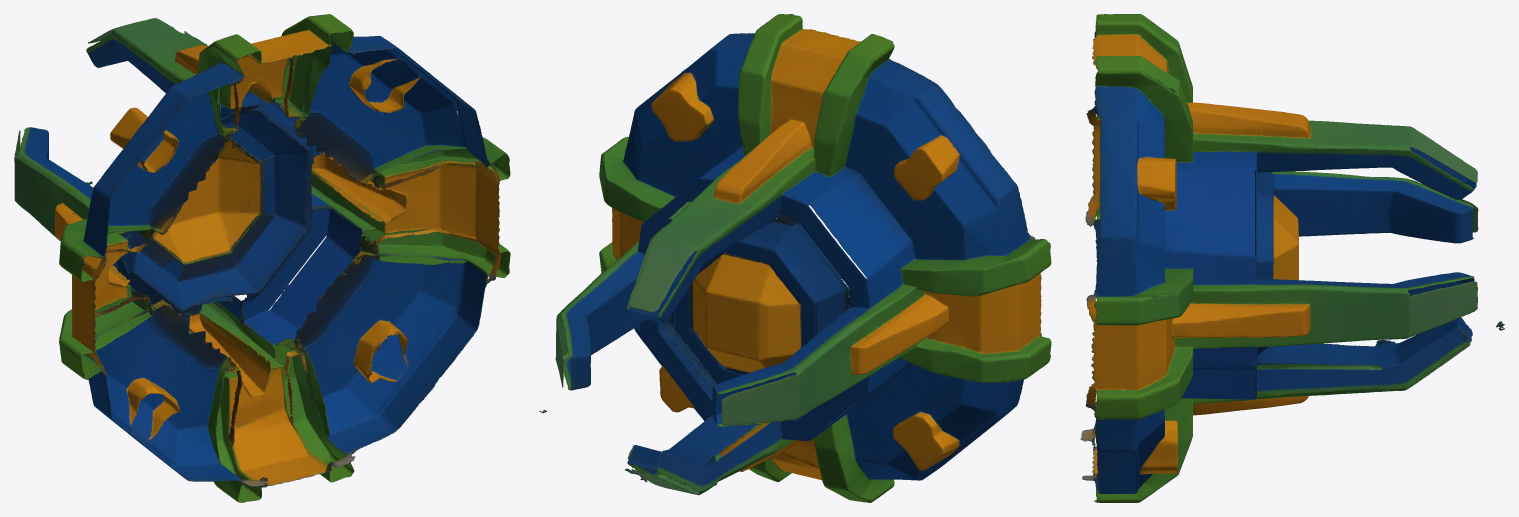
3 views of the same model, side by side, from view 1: azimuth 30°, elevation 25°; view 2: azimuth 150°, elevation 25°; view 3: azimuth 270°, elevation 25° (orthographic). The views are drawn at different scales.
Visible parts, largest first — view 1: geometry_0; view 2: geometry_0; view 3: geometry_0.
Boxes of the visible parts, <box> form: geometry_0: <box>14,14,510,502</box>; geometry_0: <box>539,14,1051,502</box>; geometry_0: <box>1080,14,1504,502</box>.
Bounding box in the file's own units: 100 × 100 × 87.67.
Materials: 1 (1 with a texture image).
